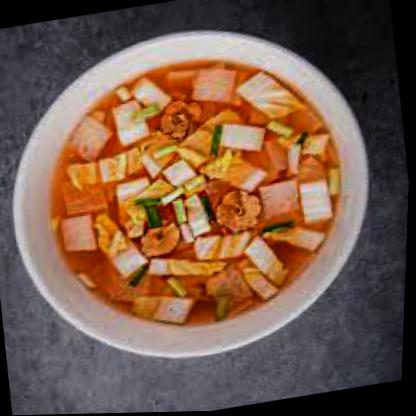nabak Kimchi: (14, 29, 383, 355)
